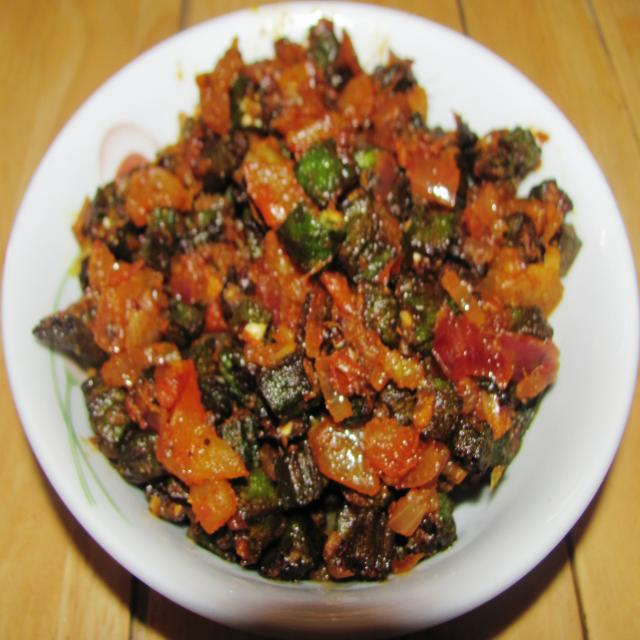BhindiMasala: (31, 16, 580, 580)
